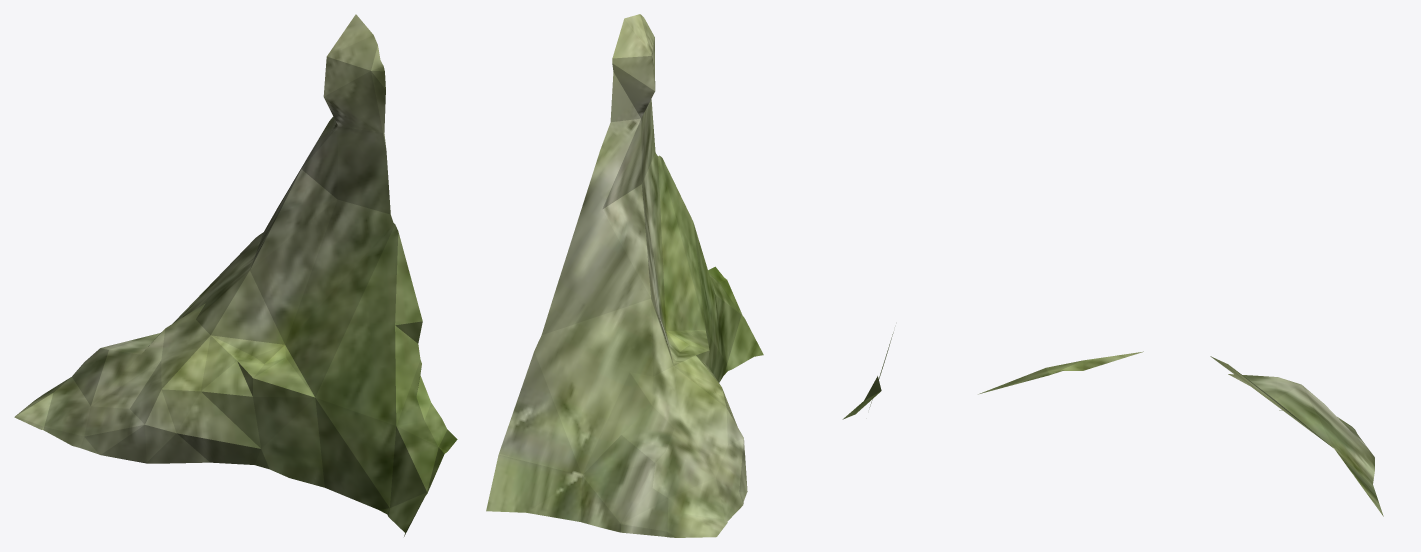
3 views of the same model, side by side, from view 1: azimuth 30°, elevation 25°; view 2: azimuth 150°, elevation 25°; view 3: azimuth 270°, elevation 25° (orthographic). The views are drawn at different scales.
Bounding box in the file's own units: 0.9892 × 1.86 × 1.97.
1 material, 1 textured.
